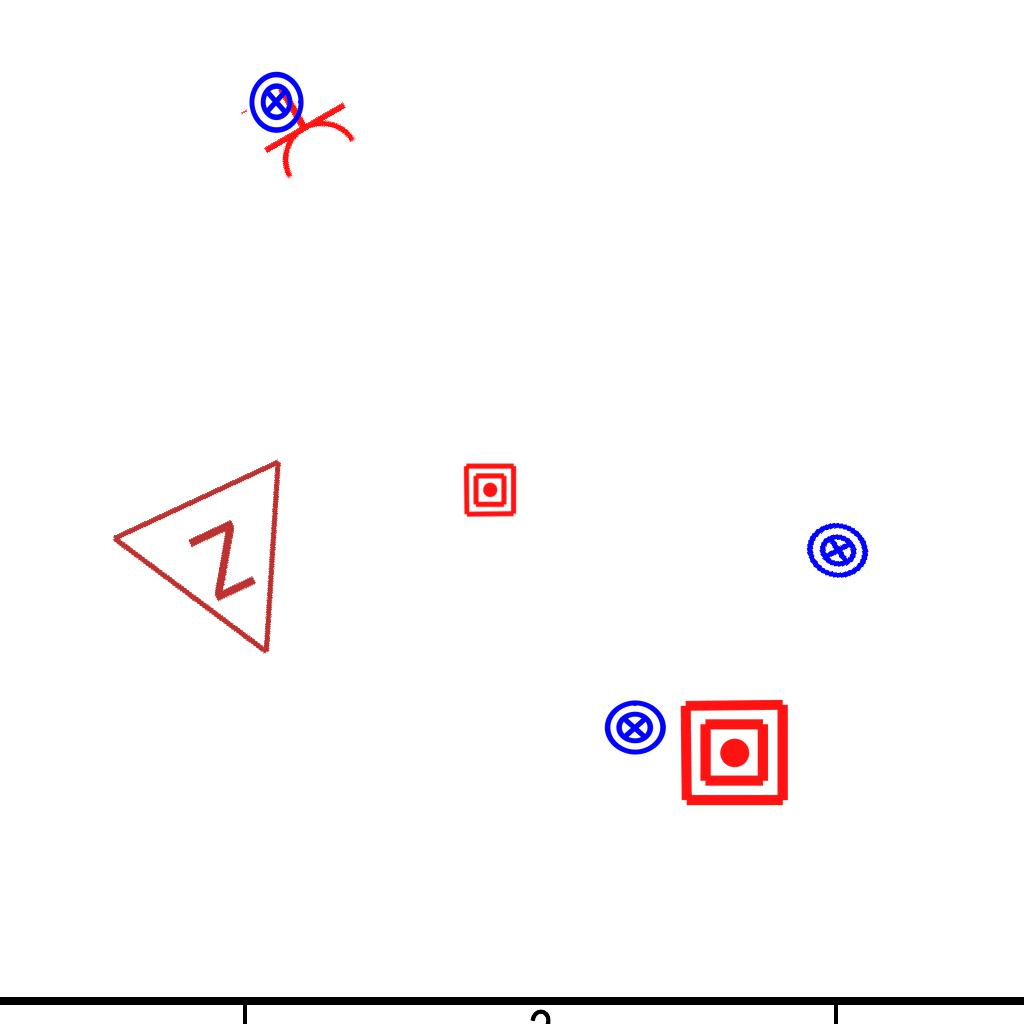NAM-Nichtautomatischer_Melder: (678, 696, 791, 809), (462, 462, 518, 518)
Schukosteckdose_einfach: (235, 62, 366, 188)
Taster_beleuchtet: (797, 509, 879, 591), (602, 695, 668, 761), (243, 69, 309, 135)
Zimmersignalleuchte: (101, 441, 365, 707)
